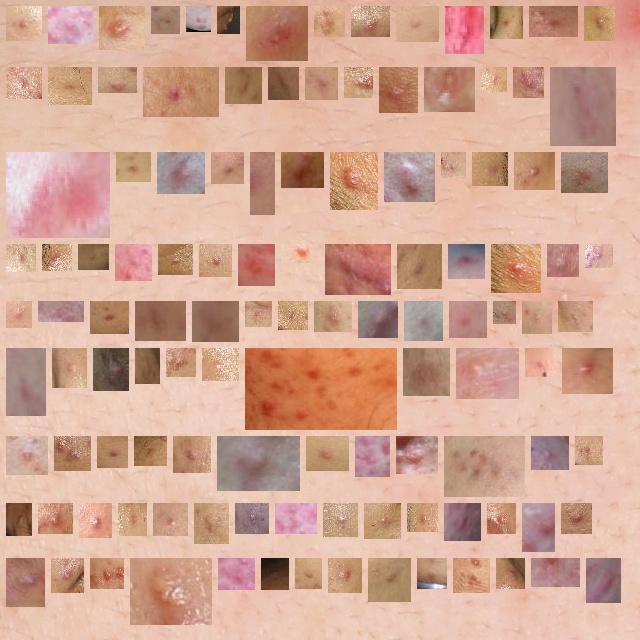papule: (253, 356, 389, 422), (14, 160, 102, 230), (138, 566, 204, 617), (558, 75, 608, 138), (452, 444, 517, 489), (225, 444, 292, 483), (151, 75, 211, 109), (254, 14, 300, 53), (333, 252, 383, 287), (464, 356, 511, 391), (338, 160, 370, 202), (14, 356, 38, 408), (392, 160, 427, 194), (499, 252, 533, 285), (570, 356, 605, 386), (432, 75, 467, 104), (411, 356, 442, 388), (405, 252, 434, 281), (107, 14, 137, 42), (143, 309, 178, 333), (165, 160, 197, 186), (250, 160, 267, 207), (530, 511, 554, 544), (569, 160, 600, 185), (200, 309, 231, 334), (14, 566, 37, 599), (376, 566, 403, 594), (453, 14, 476, 46), (539, 558, 572, 579), (387, 75, 410, 105), (56, 14, 85, 36), (56, 75, 84, 97), (14, 444, 40, 467), (404, 444, 430, 466), (412, 309, 435, 333), (594, 566, 613, 595), (522, 160, 547, 182), (246, 252, 267, 278), (404, 14, 431, 34), (289, 160, 316, 180), (101, 356, 121, 383), (314, 444, 341, 463), (366, 309, 390, 330), (537, 14, 570, 29), (363, 444, 382, 469), (202, 511, 221, 536), (457, 309, 479, 330), (181, 444, 203, 465), (452, 511, 473, 533), (60, 356, 79, 380), (233, 75, 254, 96), (123, 252, 144, 273), (372, 511, 393, 531), (456, 252, 477, 271), (62, 444, 83, 463), (461, 566, 482, 585), (539, 444, 561, 462), (106, 75, 129, 92), (98, 309, 121, 326), (283, 511, 309, 526), (14, 14, 34, 33), (480, 160, 500, 178), (210, 356, 231, 373), (359, 14, 382, 29), (166, 252, 185, 270), (331, 511, 350, 529), (336, 566, 354, 585), (226, 566, 247, 582), (46, 309, 76, 320), (322, 309, 344, 324), (87, 511, 104, 530), (161, 511, 180, 528), (59, 566, 76, 585), (14, 75, 34, 91), (498, 14, 515, 31), (313, 75, 330, 92), (207, 252, 224, 269), (592, 14, 607, 33), (566, 309, 585, 324), (46, 511, 65, 526), (219, 160, 236, 176), (555, 252, 571, 269), (243, 511, 261, 526), (98, 566, 116, 581), (124, 160, 143, 174), (276, 75, 291, 92), (289, 244, 311, 255), (105, 444, 120, 460), (530, 309, 544, 326), (142, 444, 159, 458), (322, 14, 337, 29), (521, 75, 536, 90), (569, 511, 584, 526), (126, 511, 139, 528), (425, 566, 439, 581), (352, 75, 365, 90), (533, 356, 548, 369), (415, 511, 430, 524), (495, 511, 508, 526), (504, 566, 517, 581), (269, 566, 281, 582), (286, 309, 300, 322), (174, 356, 188, 369), (143, 356, 152, 376), (14, 511, 24, 528), (14, 252, 28, 264), (303, 566, 314, 581), (159, 14, 172, 26), (583, 444, 595, 457), (50, 252, 64, 263), (86, 252, 101, 262), (14, 309, 24, 320), (253, 309, 264, 319), (593, 252, 605, 260), (194, 14, 203, 24), (489, 75, 499, 84), (449, 160, 458, 170), (225, 14, 232, 26), (501, 309, 508, 316)
